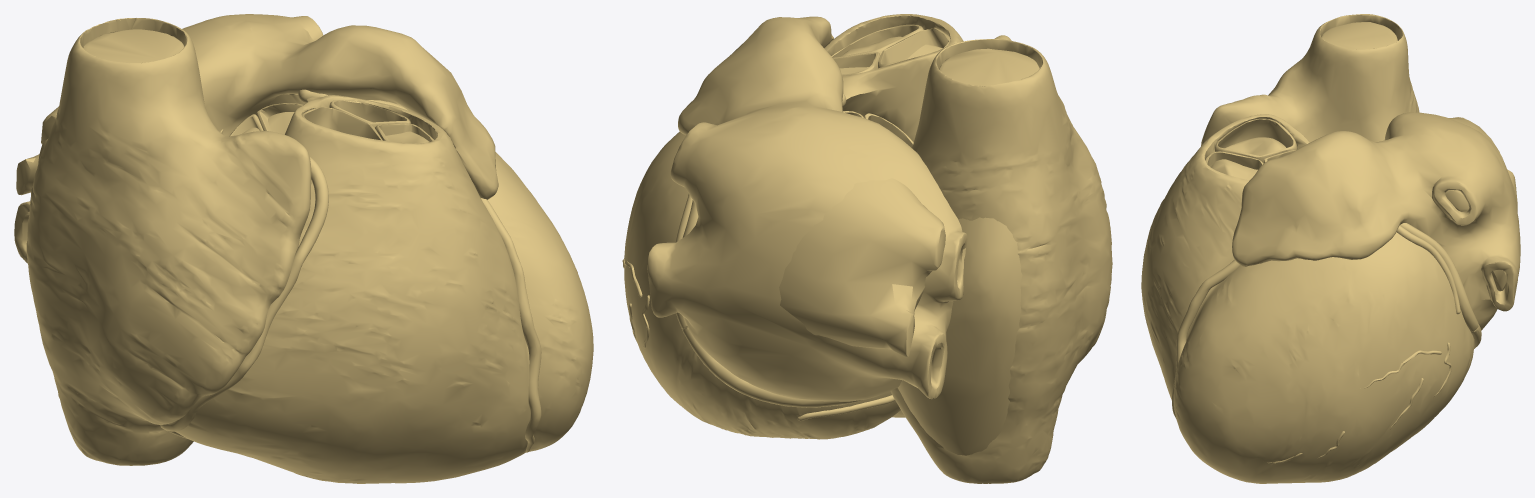
File: heart.glb
3 views of the same model, side by side, from view 1: azimuth 30°, elevation 25°; view 2: azimuth 150°, elevation 25°; view 3: azimuth 270°, elevation 25° (orthographic). The views are drawn at different scales.
Parts seen in each view (by area): view 1: bp3d_FMA13884_FJ2428, bp3d_FMA9457_FJ2439, bp3d_FMA9531_FJ2438, bp3d_FMA3802_FJ2723, bp3d_FMA74912_FJ2631, bp3d_FMA11359_FJ2424, bp3d_FMA7249_FJ2434, bp3d_FMA7250_FJ2427, bp3d_FMA9465_FJ2425; view 2: bp3d_FMA9531_FJ2438, bp3d_FMA9457_FJ2439, bp3d_FMA13884_FJ2428, bp3d_FMA9465_FJ2425, bp3d_FMA11359_FJ2424, bp3d_FMA4706_FJ2655, bp3d_FMA7249_FJ2434, bp3d_FMA7247_FJ2417, bp3d_FMA9291_FJ2423, bp3d_FMA7250_FJ2427, bp3d_FMA3802_FJ2723; view 3: bp3d_FMA13884_FJ2428, bp3d_FMA9531_FJ2438, bp3d_FMA9457_FJ2439, bp3d_FMA7249_FJ2434, bp3d_FMA11359_FJ2424, bp3d_FMA9291_FJ2423, bp3d_FMA74912_FJ2631, bp3d_FMA4707_FJ2656, bp3d_FMA9465_FJ2425, bp3d_FMA3895_FJ2649, bp3d_FMA7247_FJ2417.
Part boxes in pixels (x1=…): bp3d_FMA13884_FJ2428: x1=172, y1=94, x2=593, y2=483; bp3d_FMA9457_FJ2439: x1=26, y1=18, x2=311, y2=465; bp3d_FMA9531_FJ2438: x1=14, y1=14, x2=498, y2=262; bp3d_FMA3802_FJ2723: x1=160, y1=157, x2=328, y2=438; bp3d_FMA74912_FJ2631: x1=367, y1=100, x2=541, y2=452; bp3d_FMA11359_FJ2424: x1=83, y1=29, x2=184, y2=63; bp3d_FMA7249_FJ2434: x1=302, y1=107, x2=382, y2=140; bp3d_FMA7250_FJ2427: x1=329, y1=100, x2=410, y2=127; bp3d_FMA9465_FJ2425: x1=16, y1=106, x2=59, y2=195; bp3d_FMA9531_FJ2438: x1=647, y1=16, x2=967, y2=401; bp3d_FMA9457_FJ2439: x1=890, y1=35, x2=1112, y2=483; bp3d_FMA13884_FJ2428: x1=624, y1=14, x2=963, y2=439; bp3d_FMA9465_FJ2425: x1=779, y1=178, x2=945, y2=356; bp3d_FMA11359_FJ2424: x1=898, y1=48, x2=1039, y2=455; bp3d_FMA4706_FJ2655: x1=682, y1=327, x2=863, y2=407; bp3d_FMA7249_FJ2434: x1=878, y1=28, x2=949, y2=68; bp3d_FMA7247_FJ2417: x1=831, y1=24, x2=923, y2=58; bp3d_FMA9291_FJ2423: x1=839, y1=36, x2=942, y2=74; bp3d_FMA7250_FJ2427: x1=833, y1=52, x2=880, y2=75; bp3d_FMA3802_FJ2723: x1=797, y1=395, x2=895, y2=420; bp3d_FMA13884_FJ2428: x1=1141, y1=114, x2=1474, y2=483; bp3d_FMA9531_FJ2438: x1=1232, y1=112, x2=1520, y2=330; bp3d_FMA9457_FJ2439: x1=1201, y1=14, x2=1419, y2=145; bp3d_FMA7249_FJ2434: x1=1215, y1=118, x2=1296, y2=163; bp3d_FMA11359_FJ2424: x1=1321, y1=22, x2=1397, y2=49; bp3d_FMA9291_FJ2423: x1=1211, y1=137, x2=1285, y2=180; bp3d_FMA74912_FJ2631: x1=1172, y1=259, x2=1239, y2=418; bp3d_FMA4707_FJ2656: x1=1400, y1=223, x2=1478, y2=331; bp3d_FMA9465_FJ2425: x1=1445, y1=117, x2=1517, y2=291; bp3d_FMA3895_FJ2649: x1=1396, y1=225, x2=1460, y2=314; bp3d_FMA7247_FJ2417: x1=1205, y1=151, x2=1263, y2=169.
Bounding box in the file's own units: 0.1154 × 0.1053 × 0.1064.
